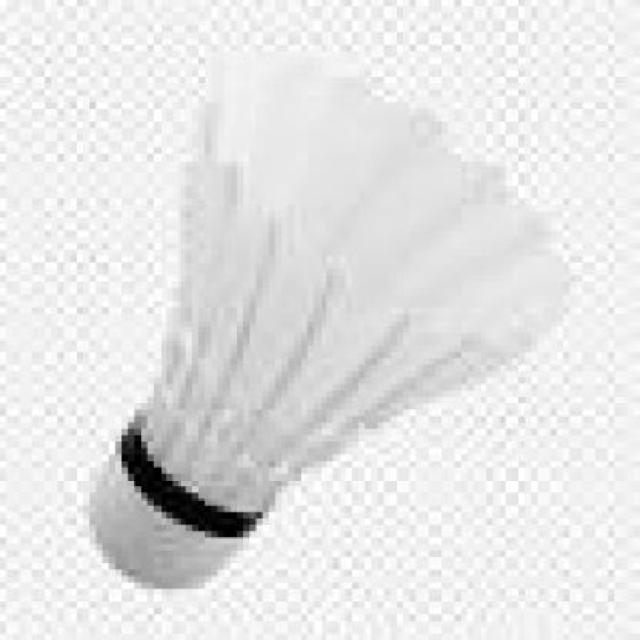Shuttlecock: (90, 49, 578, 594)
